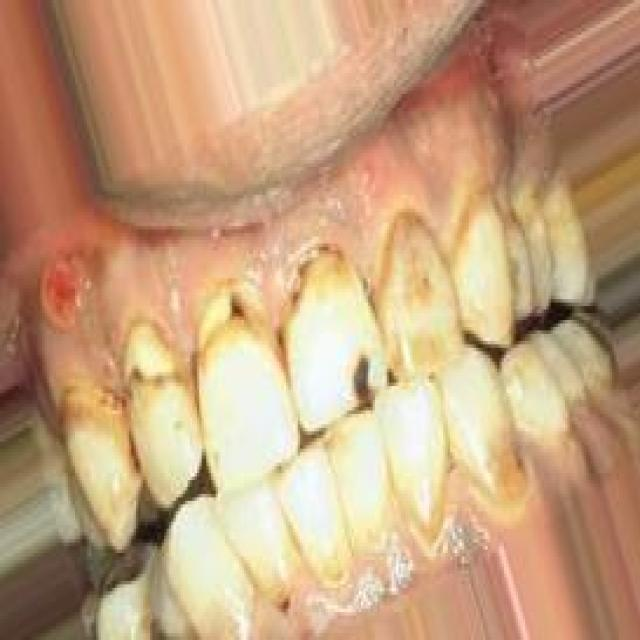caries: (113, 320, 188, 403), (192, 276, 266, 346), (282, 239, 328, 313), (340, 345, 384, 404)
